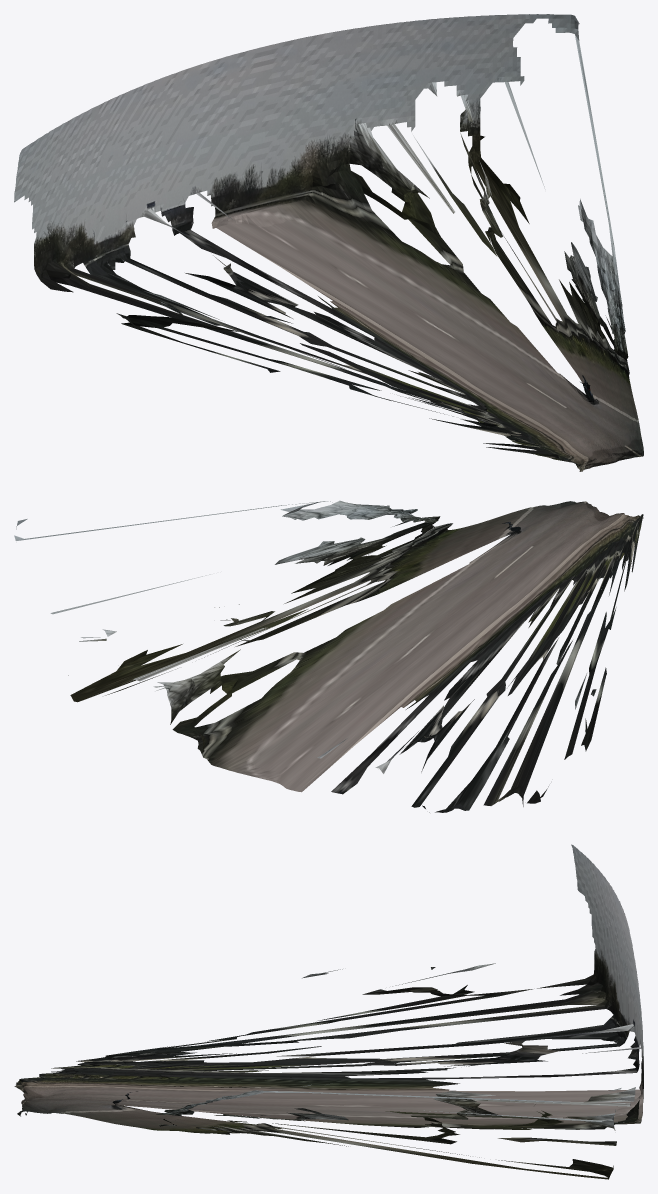
3 views of the same model, one above another, from view 1: azimuth 30°, elevation 25°; view 2: azimuth 150°, elevation 25°; view 3: azimuth 270°, elevation 25° (orthographic). The views are drawn at different scales.
Visible parts, largest first — view 1: defaultobject; view 2: defaultobject; view 3: defaultobject.
Boxes of the visible parts, left/top/right/bottom form: defaultobject: left=14, top=14, right=643, bottom=471; defaultobject: left=14, top=500, right=643, bottom=812; defaultobject: left=14, top=844, right=643, bottom=1179.
Bounding box in the file's own units: 40.77 × 12.36 × 44.68.
Materials: 1 (1 with a texture image).
